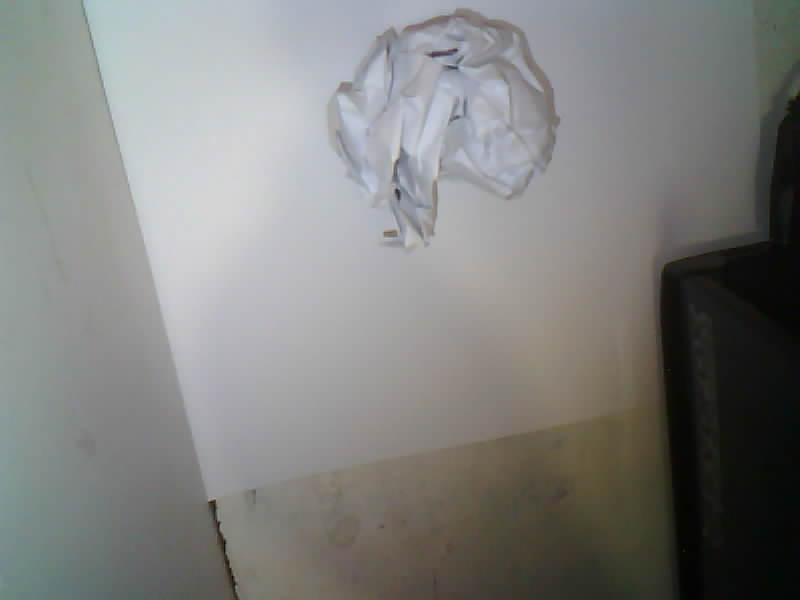biodegradable: (328, 10, 557, 246)
